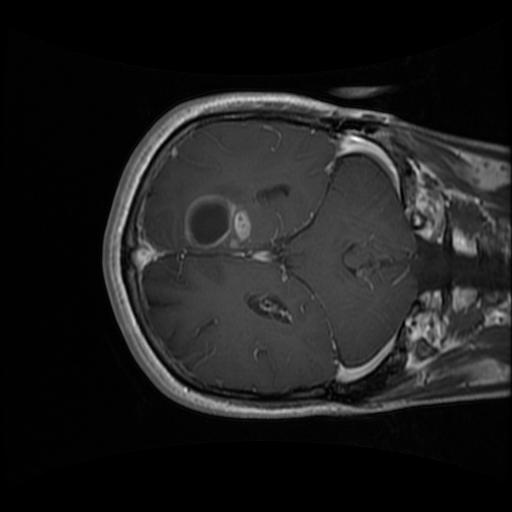glioma: (179, 190, 251, 258)
